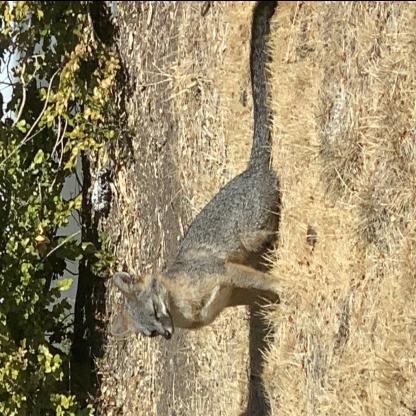zorro: (104, 0, 292, 345)
